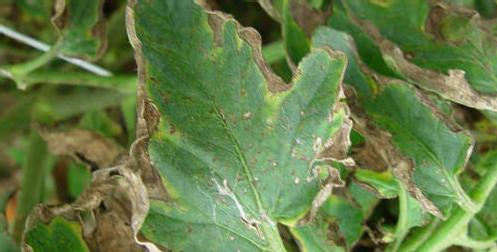Tomato leaf bacterial spot: (89, 0, 355, 252)
